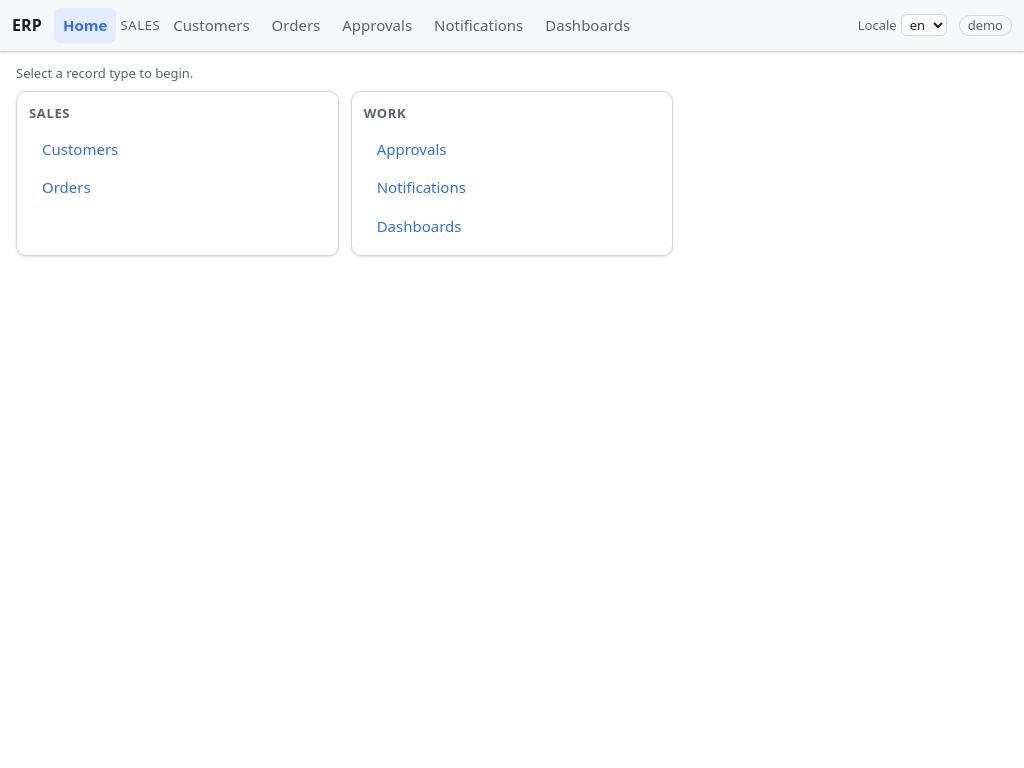
RuntimeShell › a page that just SAVED navigates silently — the guard never re-prompts on its own save
Click the button "Customers" in the row of "ERP".
click(211, 25)  # box [164,8,259,42]
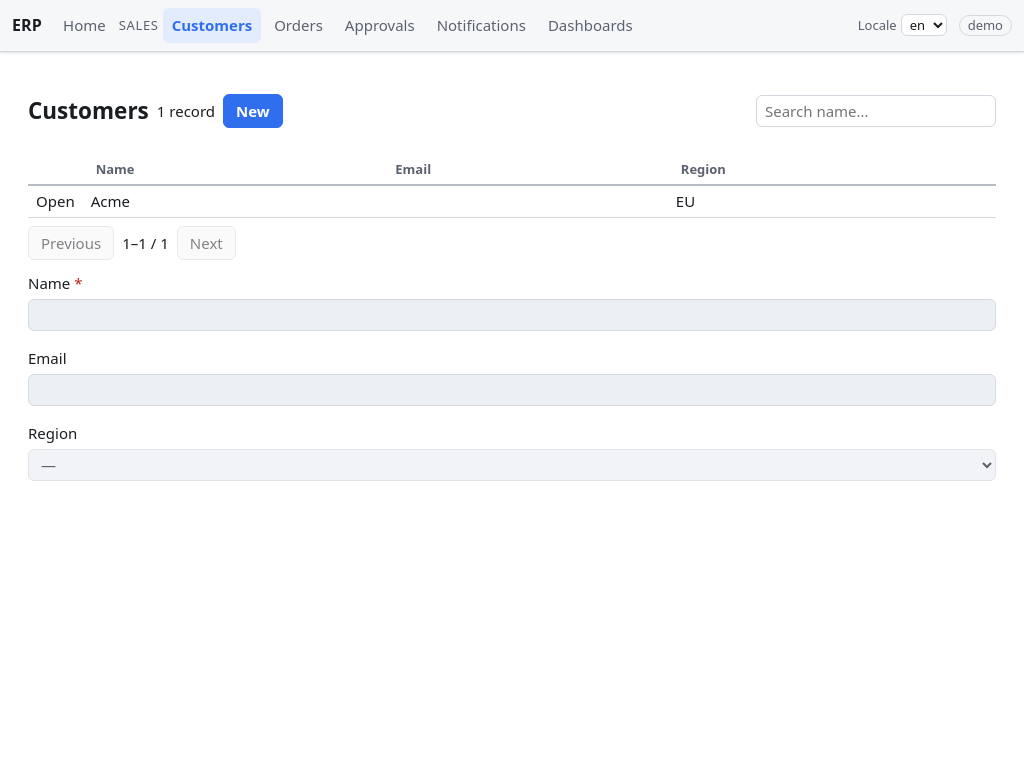
Result: the text "1 record" is shown at [157,100,215,122]
Click the button "New".
click(253, 111)  # box [223,94,283,128]
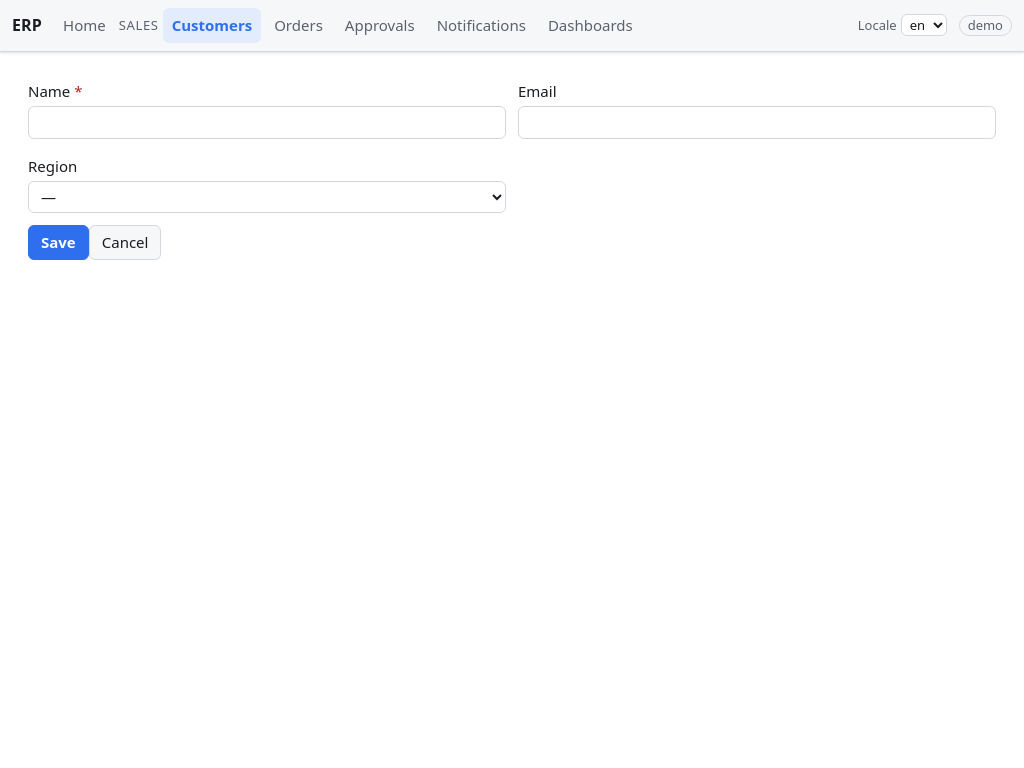
Result: the button "Save" is shown at [28,225,89,260]
Type "Acme" into the field labelled "Name *".
click(267, 122); type("Acme")  # box [28,106,506,138]
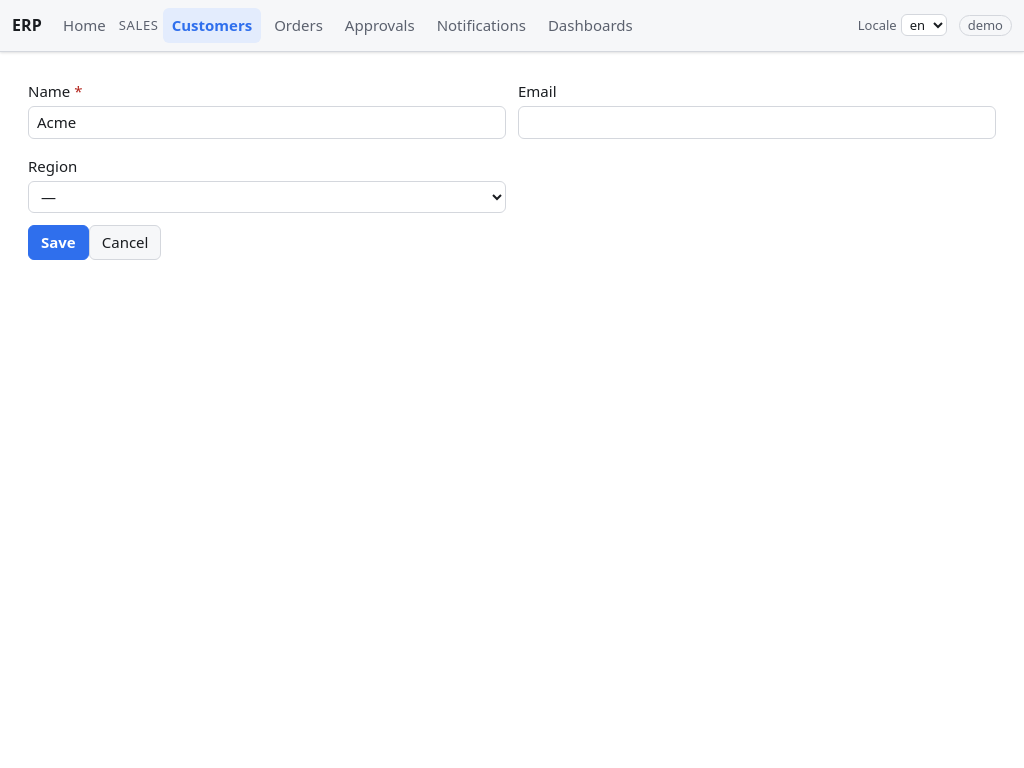
Click the button "Save".
click(58, 242)  # box [28,225,89,260]
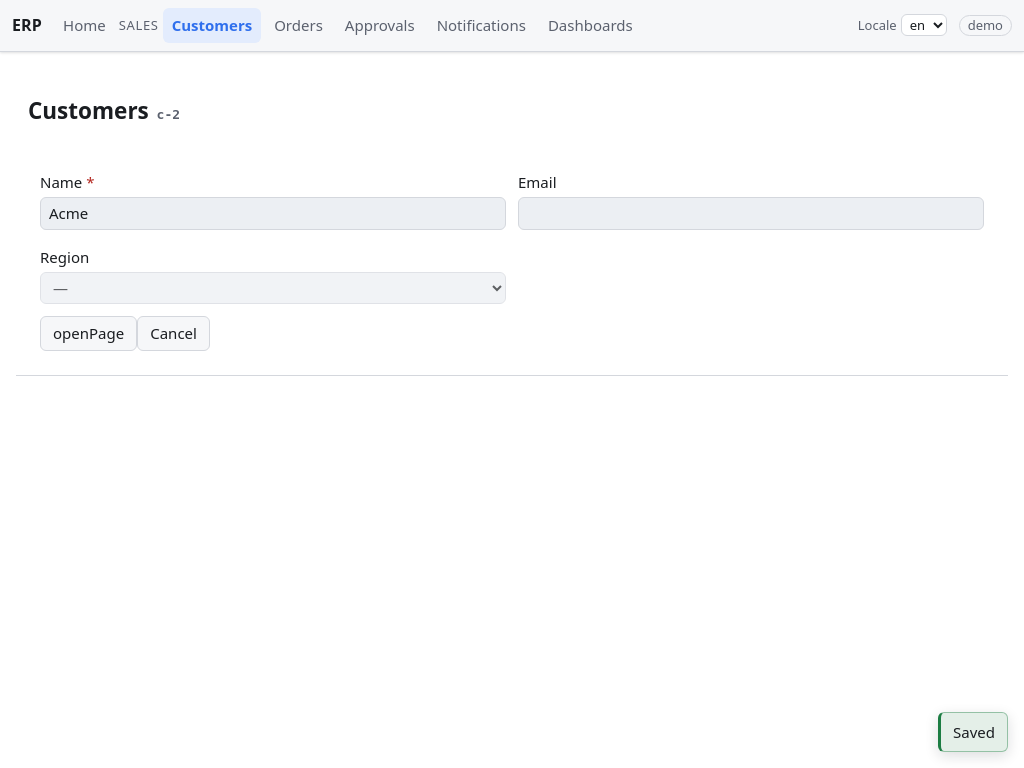
Result: the field showing "Acme" is shown at [40,197,506,230]
Note: leaving NOW is silent: the save adopted its own baseline before navigating
Click the button "Approvals".
click(380, 25)  # box [336,8,424,42]
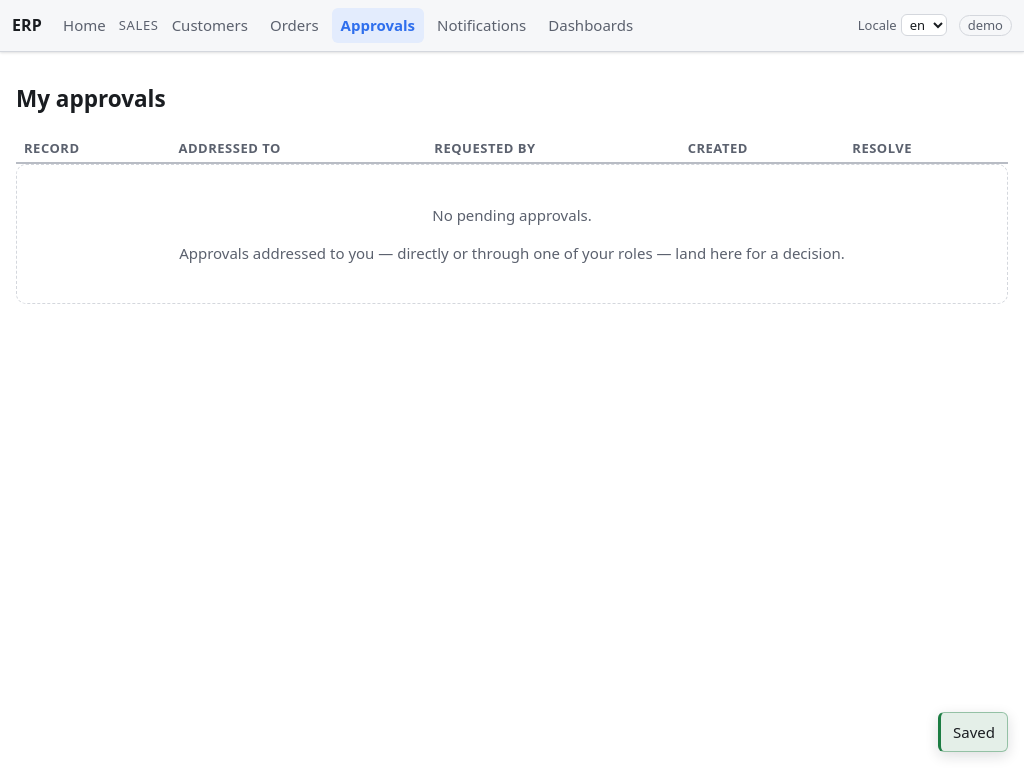
Result: the heading "My approvals" is shown at [16,83,166,114]
